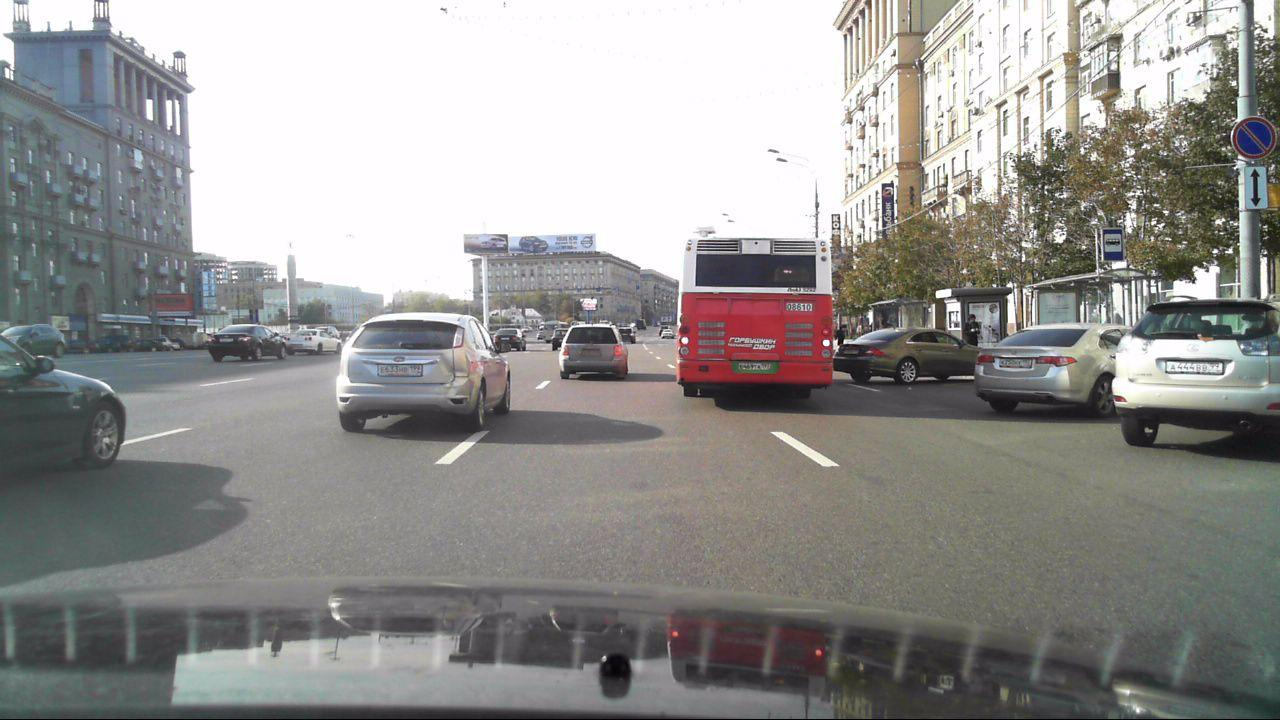3_28: (1231, 113, 1279, 159)
5_16: (1101, 228, 1125, 262)
8_2_4: (1245, 164, 1267, 211)
